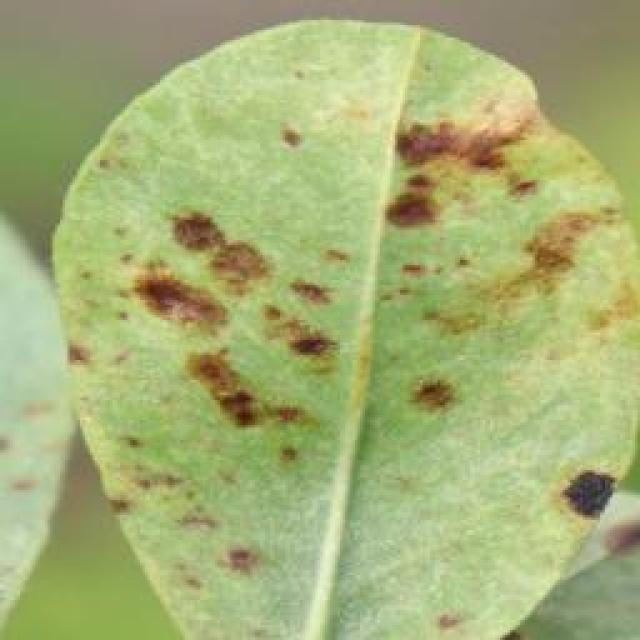Whitefly: (49, 65, 640, 640)
